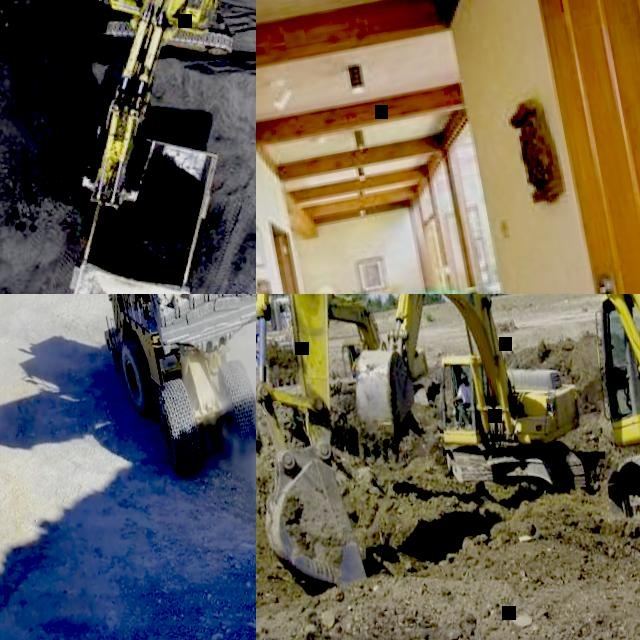Hardhat: (457, 372, 467, 380)
NO-Mask: (462, 382, 468, 389)
NO-Safety Vest: (459, 384, 473, 406)
Person: (446, 371, 478, 425)
machinery: (256, 294, 640, 630), (316, 294, 596, 535), (10, 0, 256, 222), (40, 115, 254, 294), (89, 294, 256, 499), (256, 294, 299, 362)
